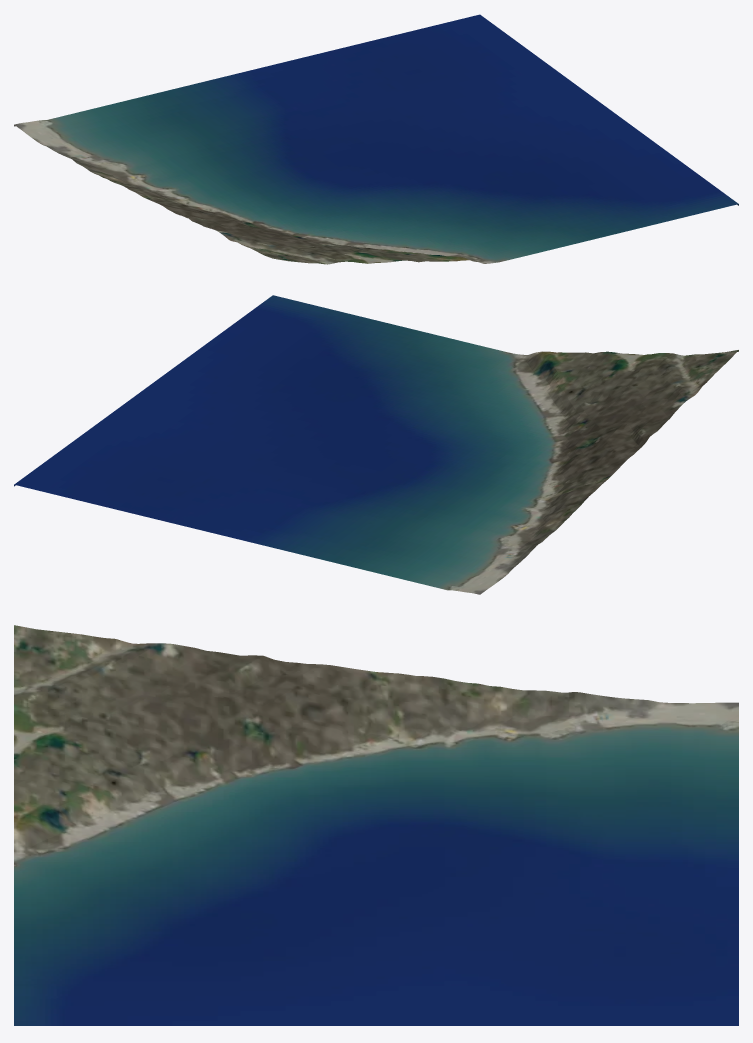
3 renders of one model, top to bottom at view 1: azimuth 30°, elevation 25°; view 2: azimuth 150°, elevation 25°; view 3: azimuth 270°, elevation 25°, orthographic. The views are drawn at different scales.
Size of the model in its own units: 250 by 31.3 by 241.
Materials: 1 (1 with a texture image).
